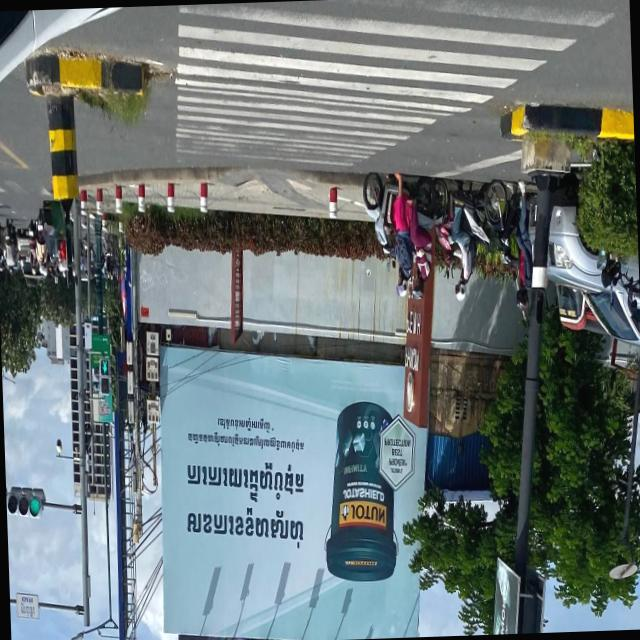Yolov11_80vkh: (184, 500, 306, 557), (183, 456, 308, 510), (187, 427, 306, 459), (212, 415, 276, 433)
